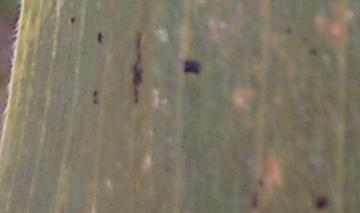tarspot: (128, 29, 145, 106), (181, 57, 202, 75), (312, 194, 328, 210), (249, 189, 259, 209), (90, 89, 100, 106), (255, 175, 266, 189), (95, 30, 104, 45), (307, 46, 317, 57), (283, 26, 292, 34), (69, 15, 76, 25)
